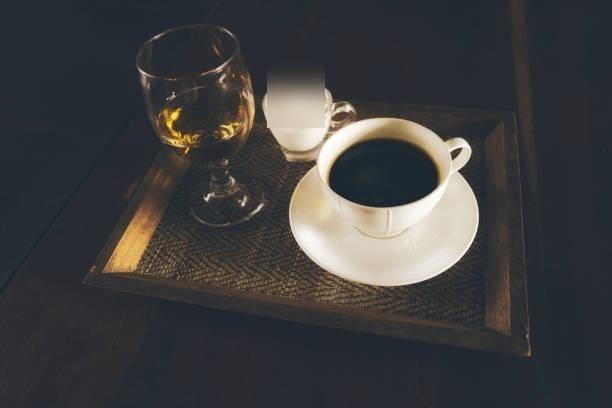cup-handle: (316, 115, 473, 240)
glass-wine: (135, 21, 266, 227)
